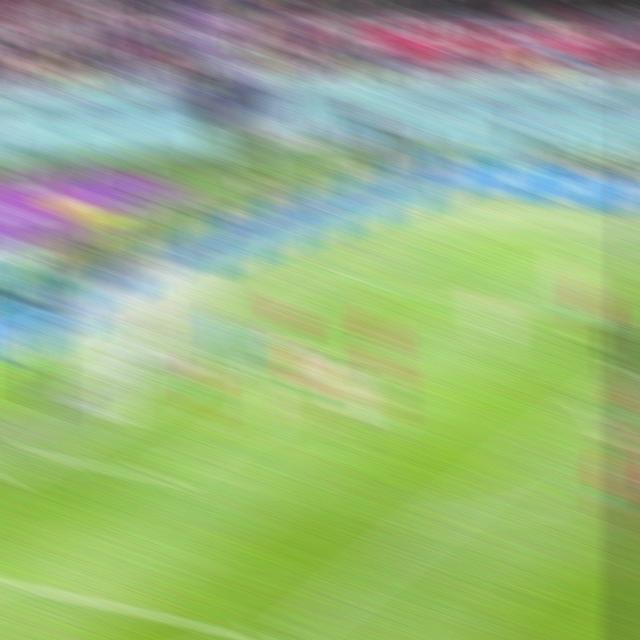bigarea_bottom_inner: (253, 621, 300, 640)
bigarea_top_outter: (351, 268, 387, 296)
bottom_arc_area_intersection: (422, 498, 463, 534)
corner: (460, 216, 499, 239)
smallarea_bottom_inner: (141, 456, 184, 498)
smallarea_bottom_outter: (24, 437, 64, 471)
smallarea_top_inner: (350, 341, 385, 369)
smallarea_top_outter: (247, 323, 283, 351)
top_arc_area_intersection: (567, 393, 603, 423)
